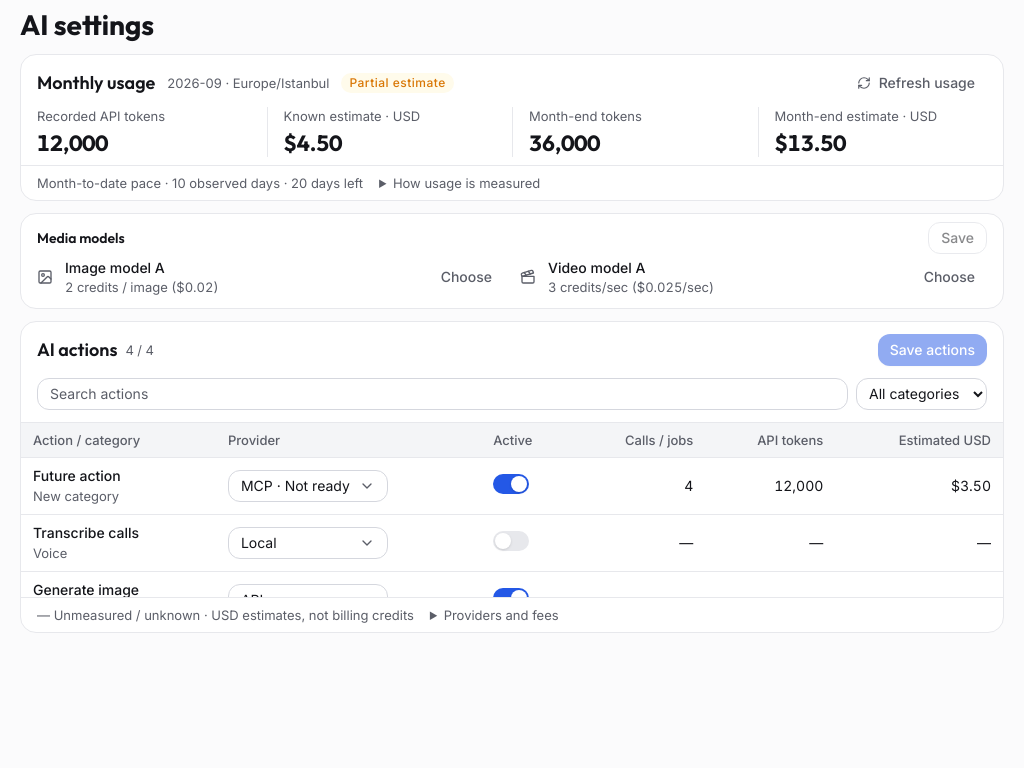
Test: AI execution policy on the AI models page › uses the fresh PATCH response as the saved state
This screenshot has width=1024, height=768.
Click the switch named "Future action: active": (511,484) [493,474,529,494]
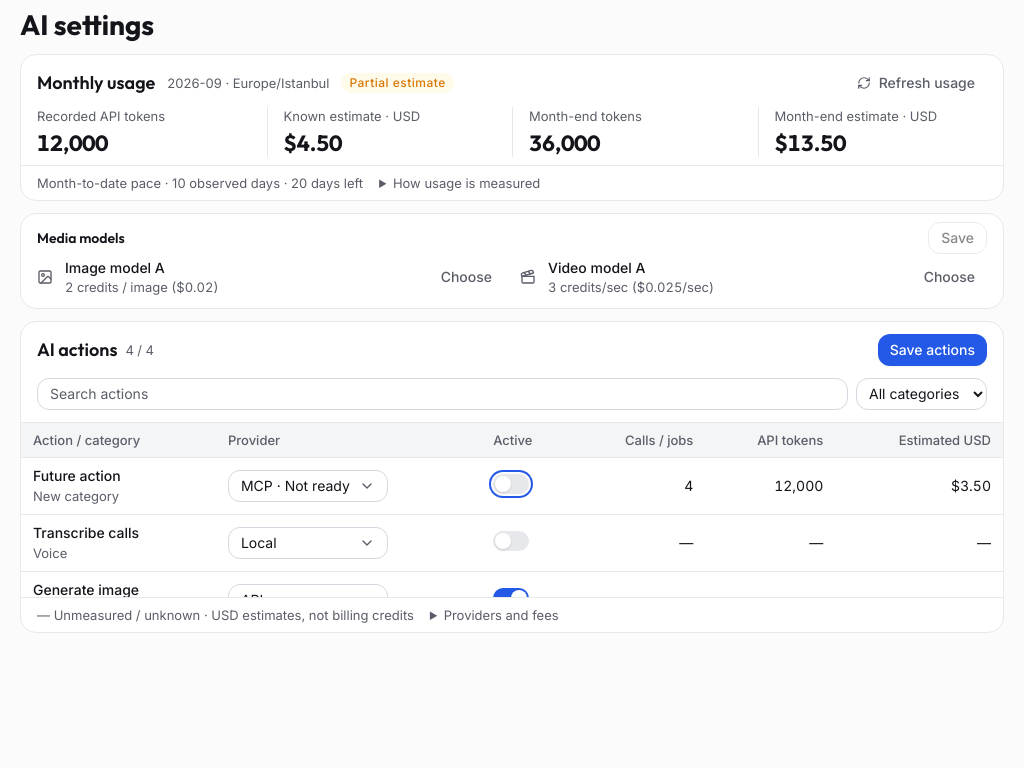
Click the button "Save actions": (932,350) [878,334,987,366]
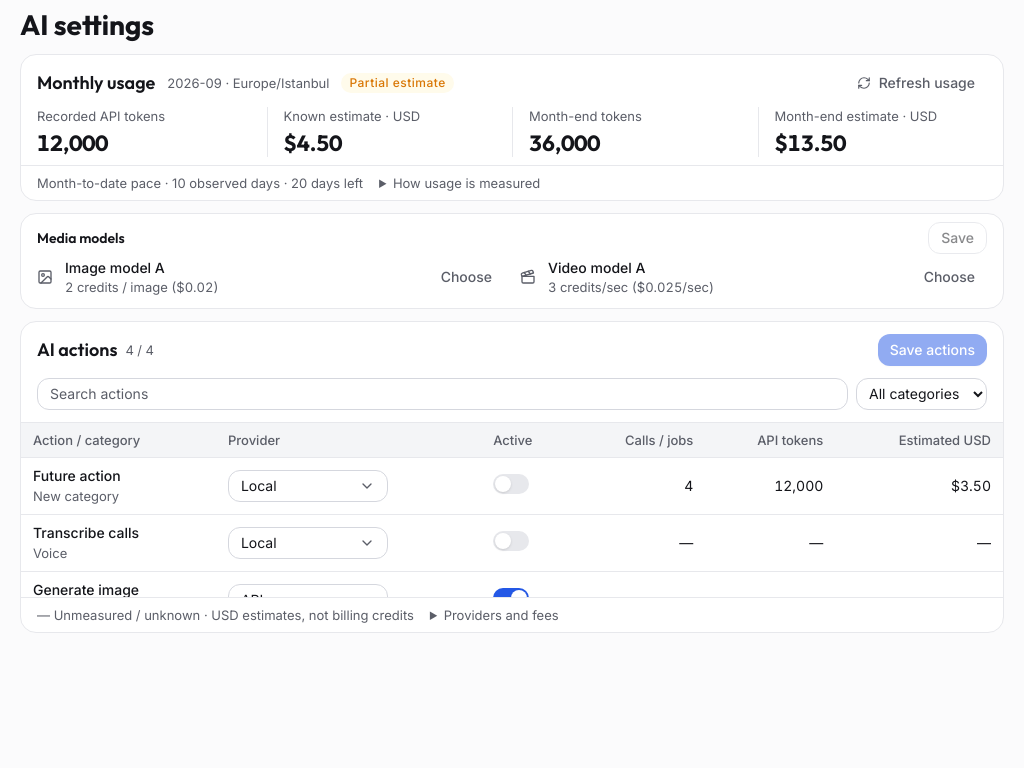
Expected: the dropdown named "Future action: provider" reads "Local", [228,470,388,502]
Expected: the button "Save actions" is disabled, [878,334,987,366]
